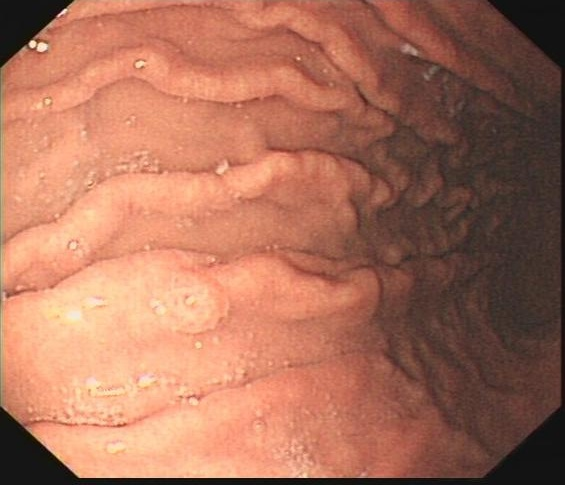Polyp: (142, 266, 245, 345)
